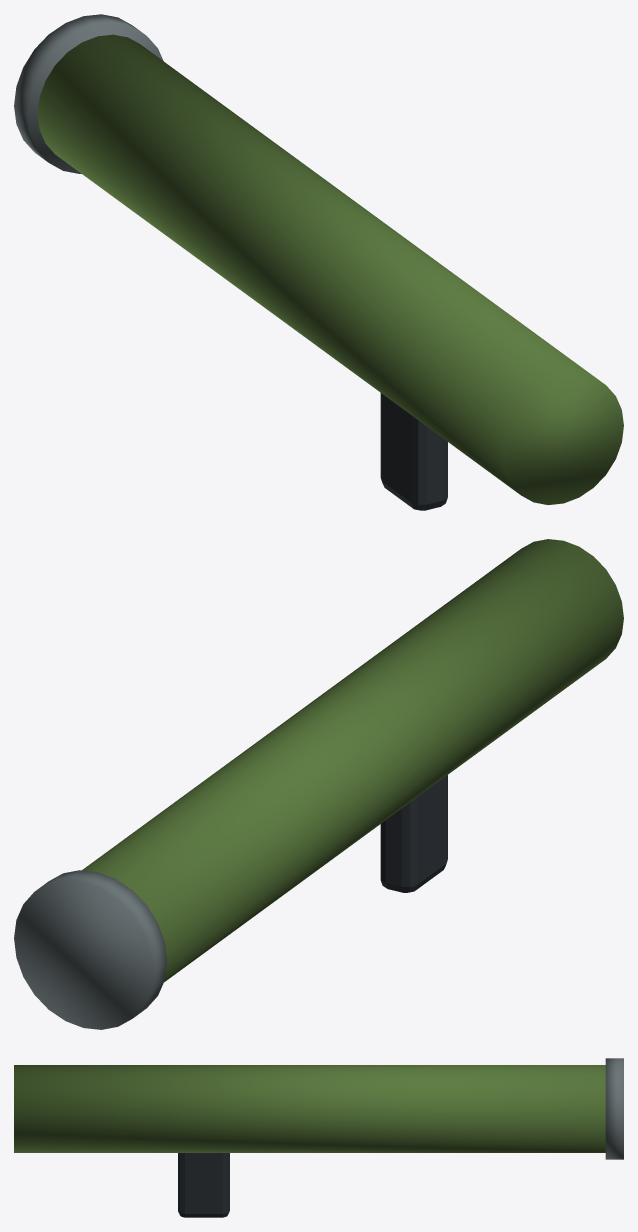
Rendered from mc_rocket.glb.
3 renders of one model, top to bottom at view 1: azimuth 30°, elevation 25°; view 2: azimuth 150°, elevation 25°; view 3: azimuth 270°, elevation 25°, orthographic. The views are drawn at different scales.
Visible parts, largest first — view 1: mc_rocket__Geometry; view 2: mc_rocket__Geometry; view 3: mc_rocket__Geometry.
Boxes of the visible parts, box(x1,y1,x2,y2) form: mc_rocket__Geometry: box(14, 14, 623, 510); mc_rocket__Geometry: box(14, 539, 623, 1029); mc_rocket__Geometry: box(14, 1058, 623, 1217).
Bounding box in the file's own units: 0.196 × 0.323 × 1.17.
